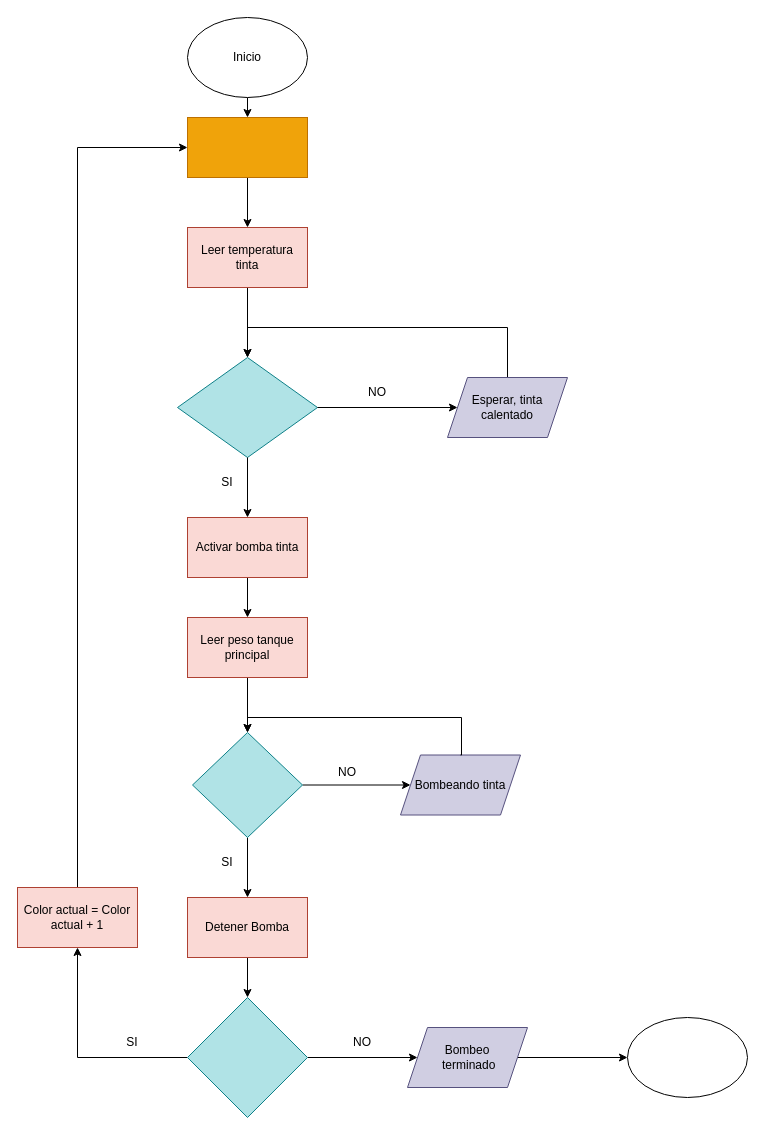
The diagram is 765 pixels wide and 1135 high, and some of its shapes have lost their labels. Here are the shapes that lost their labels. From the top down, the centre of each, then its label:
At point 247,147: "Color actual = 1".
At point 247,407: "¿Temperatura tinta dentro del rango?".
At point 247,785: "¿Peso objetivo alzanzado?".
At point 247,1057: "¿Color actual <5?".
At point 687,1057: "Fin del proceso".
